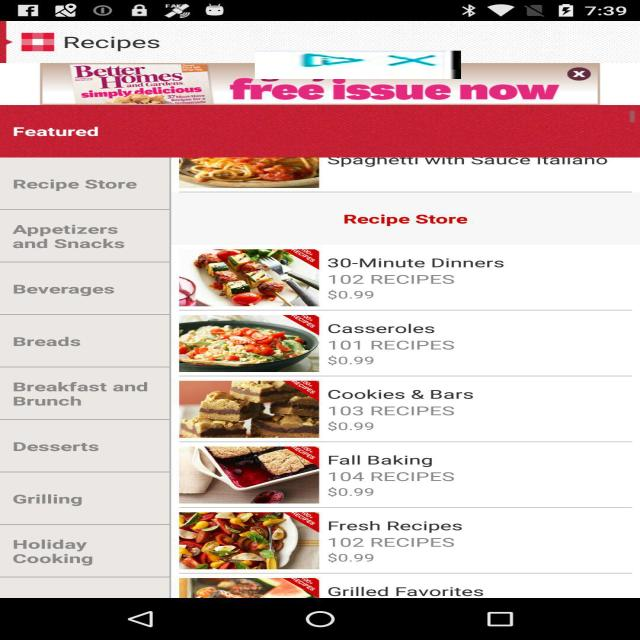sneaking: (255, 51, 461, 79)
